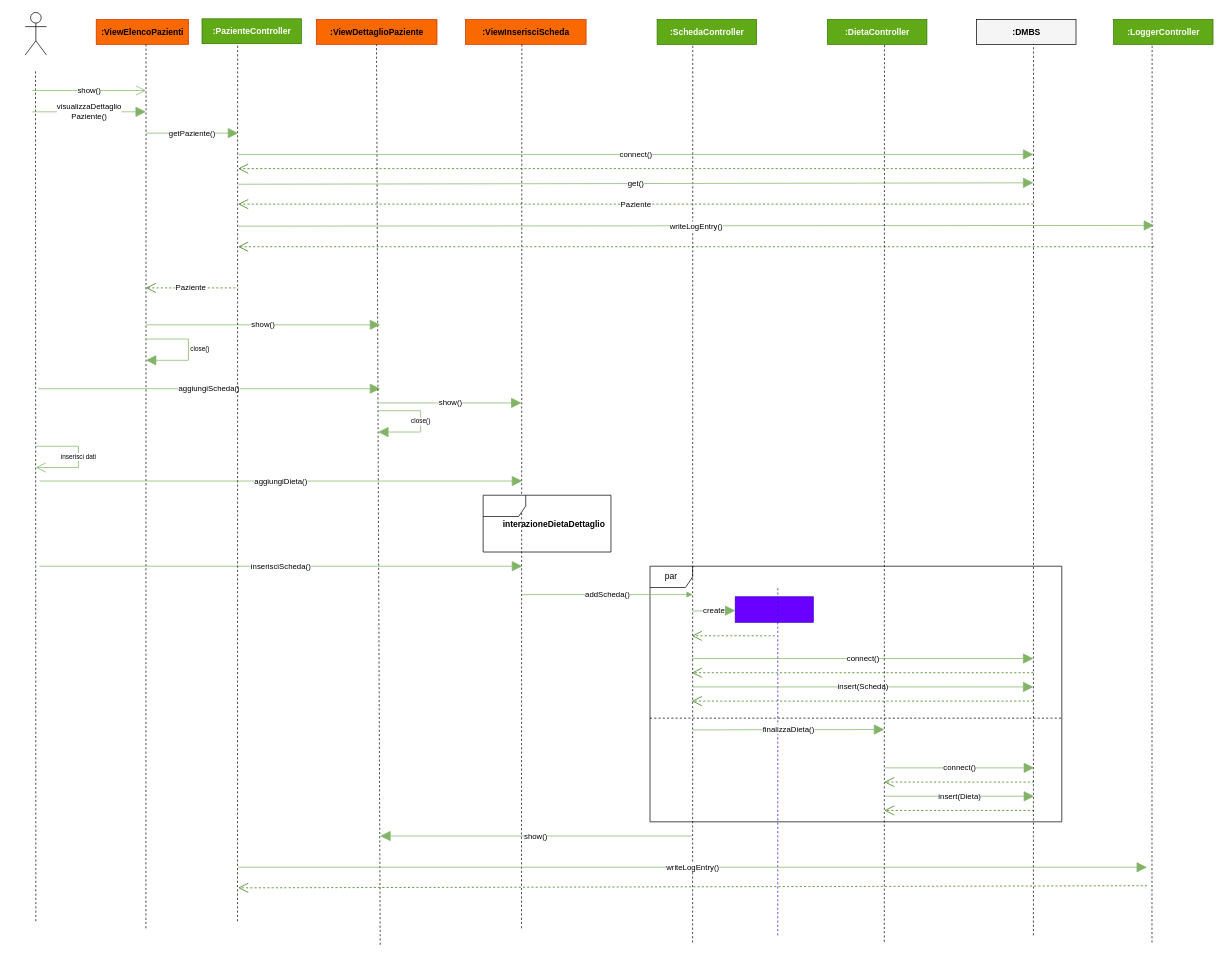
Some shapes in this 1225 by 959 pixel diagram are drawn without their labels. Each missing label, with the box of its shape:
:Scheda: (734, 596, 813, 622)
Nutrizionista: (24, 12, 47, 55)
ref: (482, 495, 611, 552)
